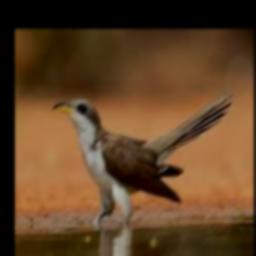Cuckoo: (52, 90, 233, 222)
